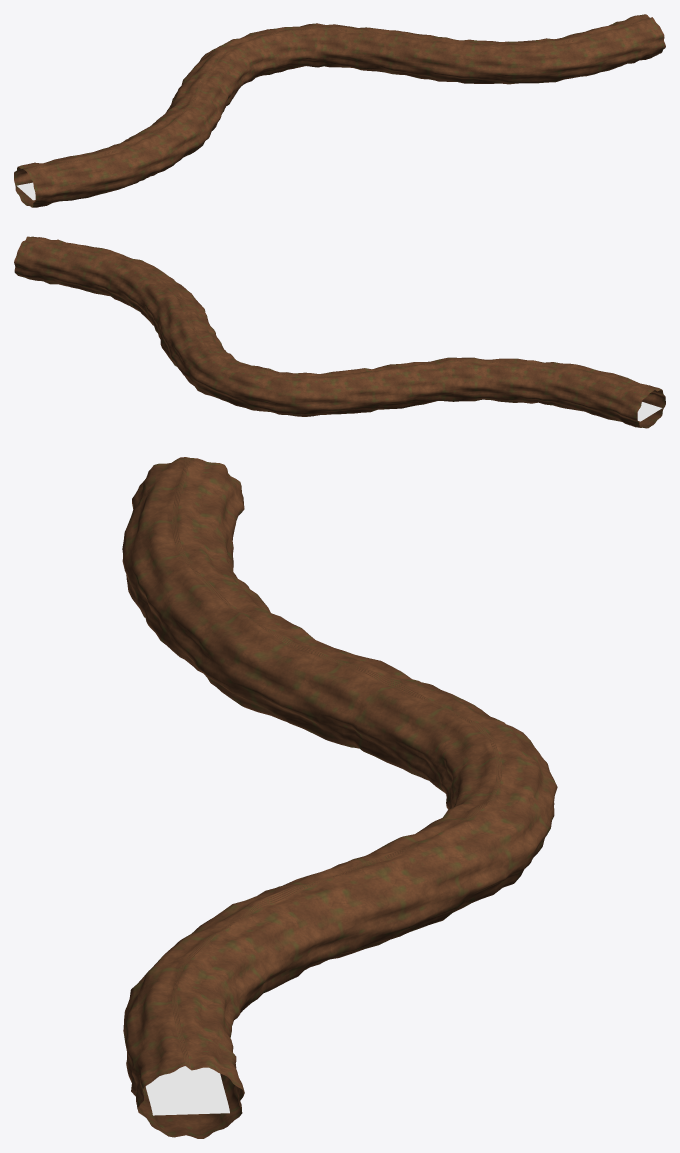
The model's file is cave_shell.glb.
3 renders of one model, top to bottom at view 1: azimuth 30°, elevation 25°; view 2: azimuth 150°, elevation 25°; view 3: azimuth 270°, elevation 25°, orthographic. The views are drawn at different scales.
Visible parts, largest first — view 1: cave_shell; view 2: cave_shell; view 3: cave_shell, cave_water.
Part boxes in pixels (bbox=[...]): cave_shell: bbox=[14, 14, 665, 207]; cave_shell: bbox=[14, 236, 665, 428]; cave_shell: bbox=[122, 457, 557, 1138]; cave_water: bbox=[145, 1066, 229, 1115].
Bounding box in the file's own units: 282 × 16.62 × 84.31.
2 materials, 1 textured.
